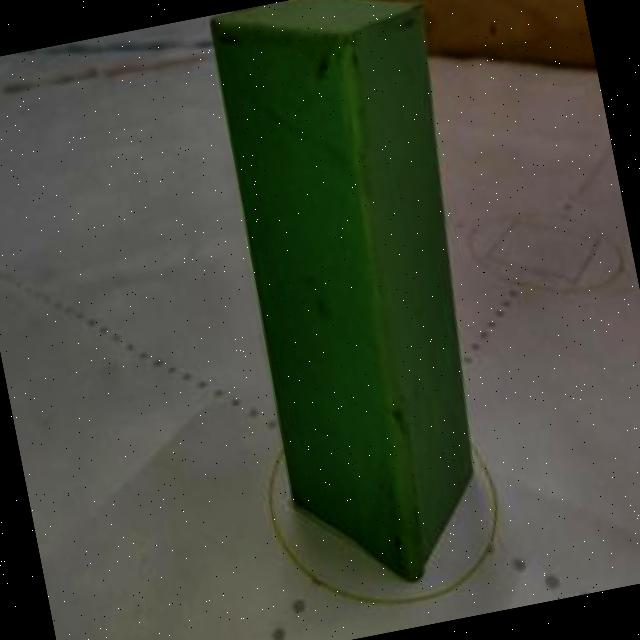greenbox: (206, 0, 504, 589)
